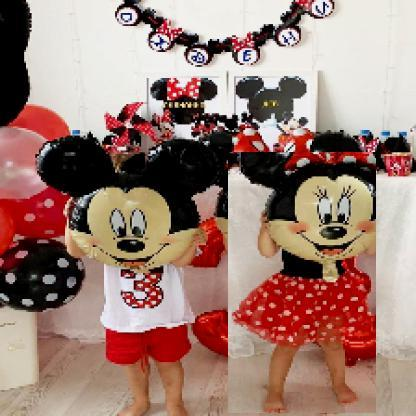child: (62, 153, 211, 415), (229, 153, 378, 415)
